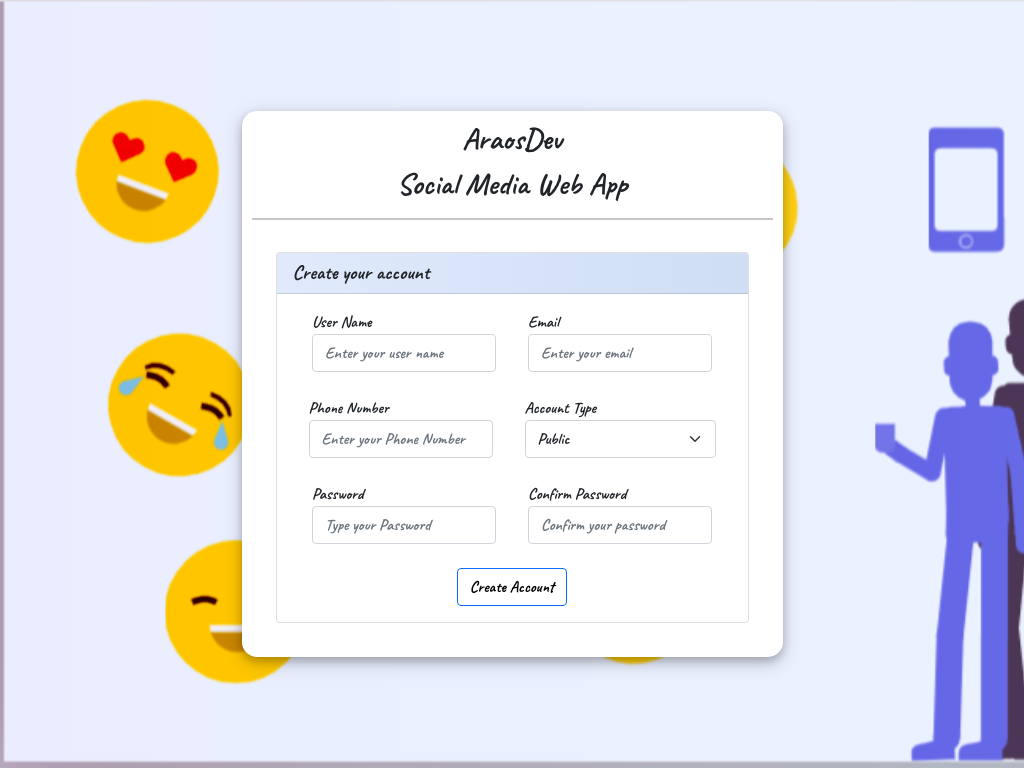
Test: Testing New Account Page › Create Account unknown error
Check: the heading "Create your account" is shown, box [276,253,748,294]
Type "UNKNOWN_USER" into the field with placeholder "Enter your user name" at [404, 353], box [312,334,496,372]
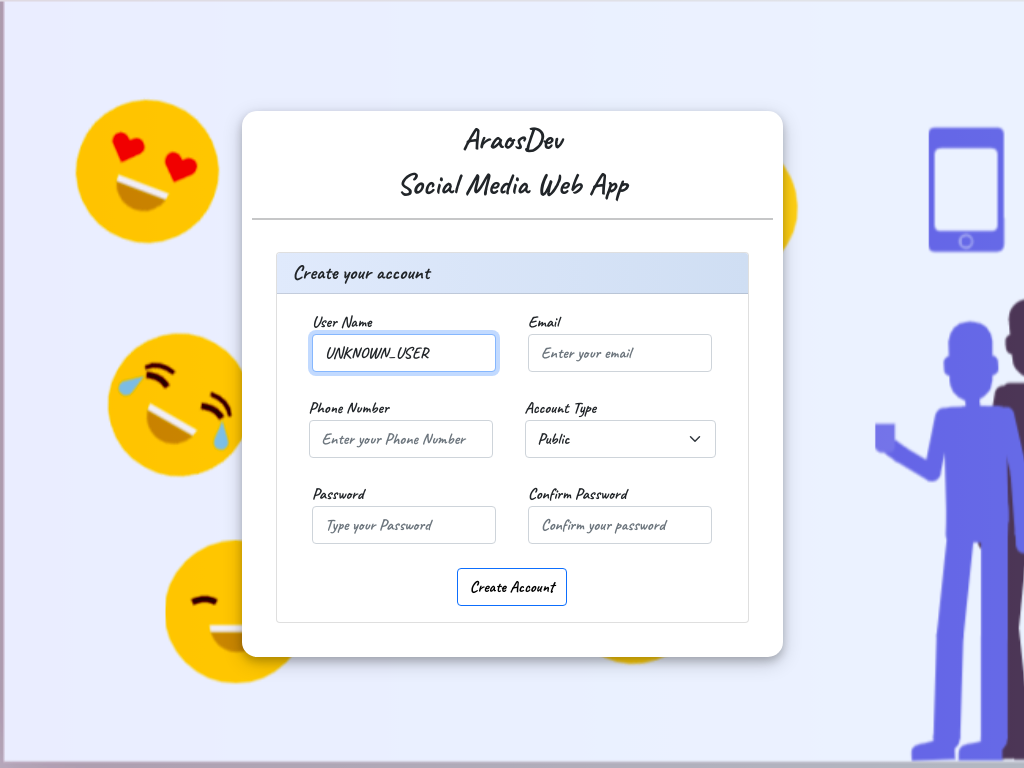
Type "user@gmail.com" into the field with placeholder "Enter your email" at [620, 353], box [528,334,712,372]
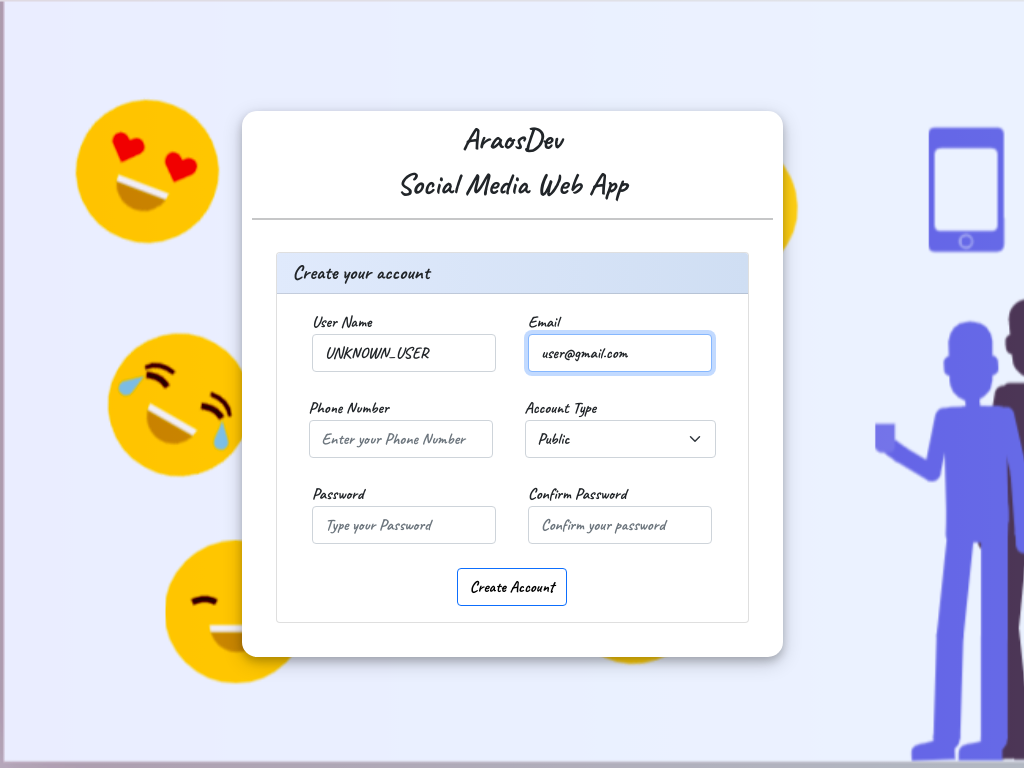
Type "9962268369" into the field with placeholder "Enter your Phone Number" at [400, 439], box [308,420,492,458]
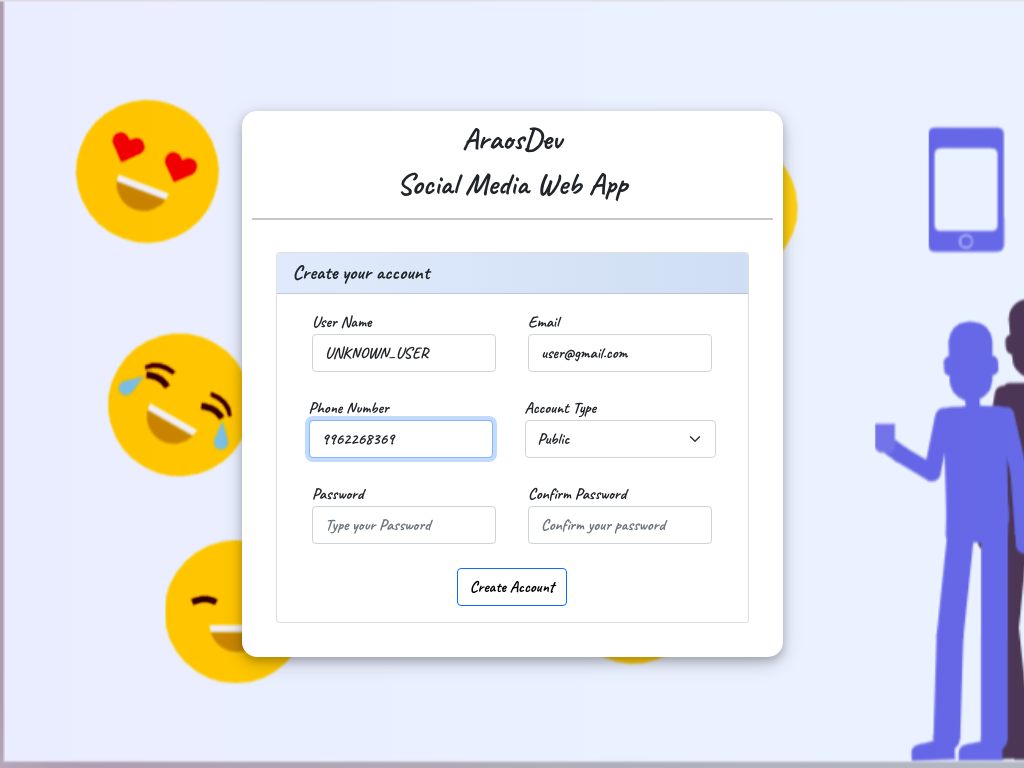
Type "qwerty123" into the password field with placeholder "Type your Password" at [404, 525], box [312,506,496,544]
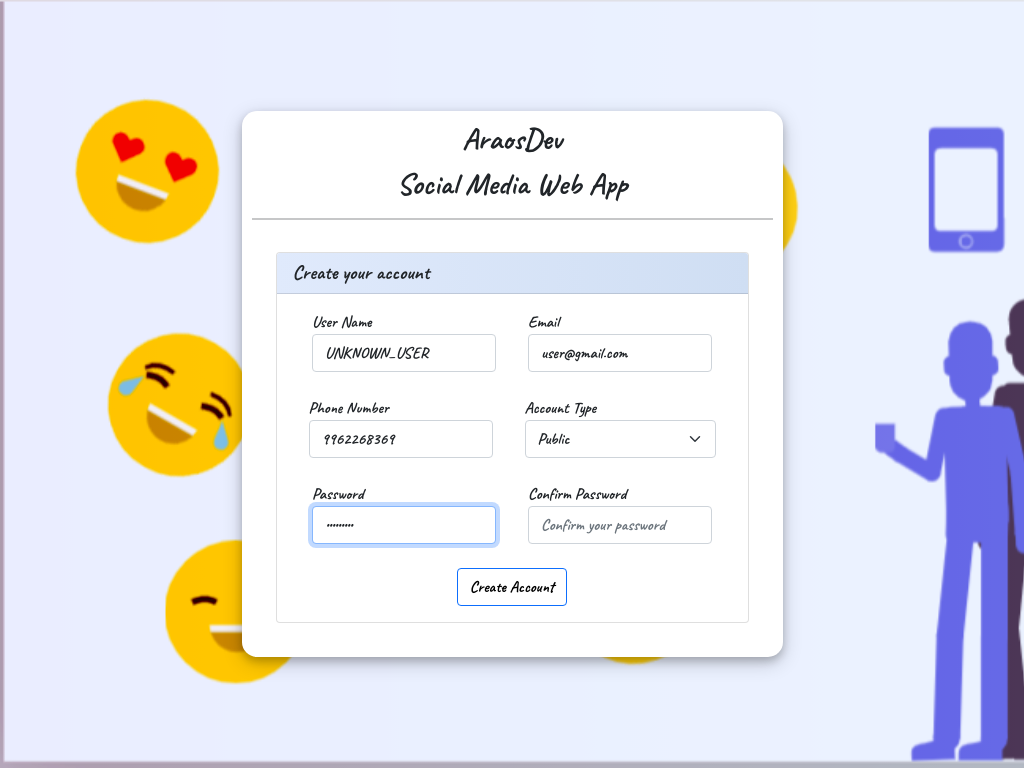
Type "qwerty123" into the password field with placeholder "Confirm your password" at [620, 525], box [528,506,712,544]
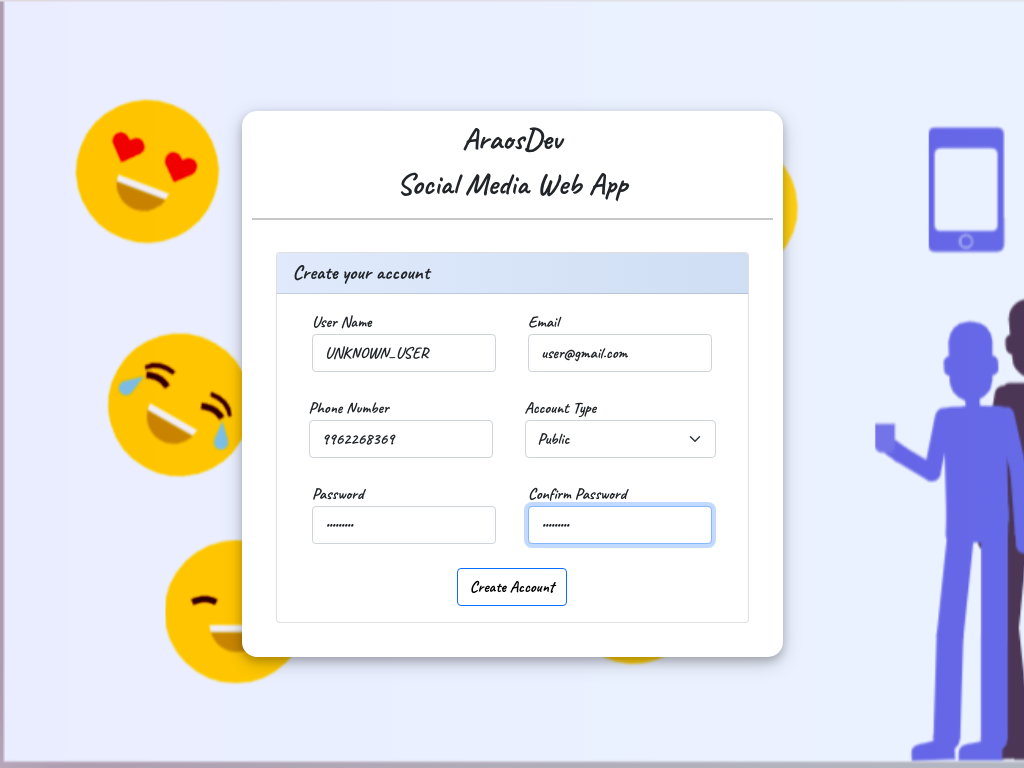
Click the button "Create Account" at [512, 587], box [457,568,567,606]
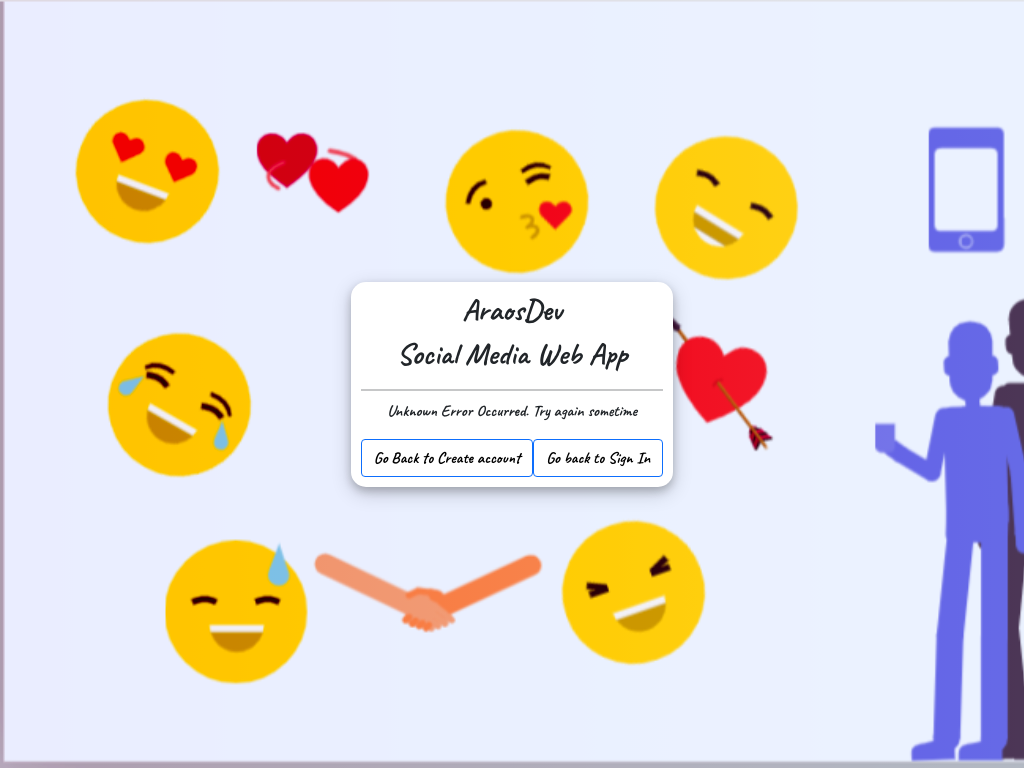
Check: the text "Unknown Error Occurred. Try again sometime" is shown, box [387,398,637,422]
